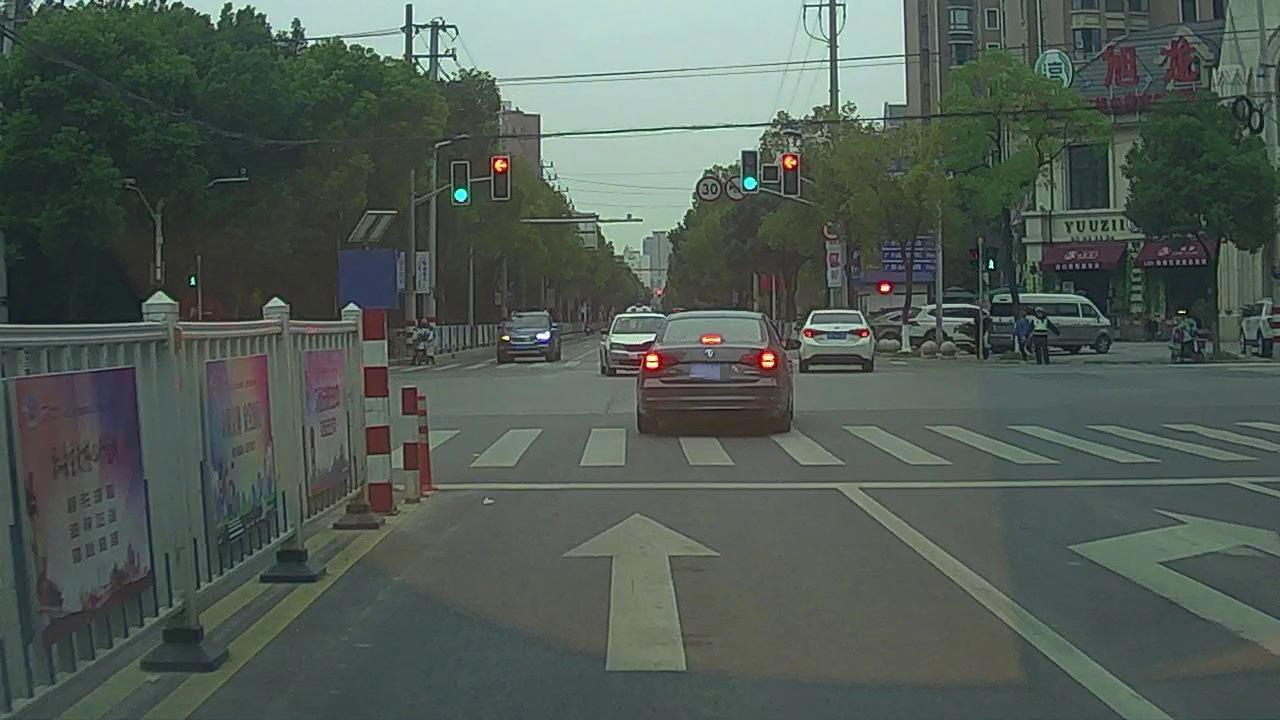traffic_light: (781, 154, 798, 197), (492, 159, 508, 201), (741, 152, 757, 192), (453, 163, 467, 205)
